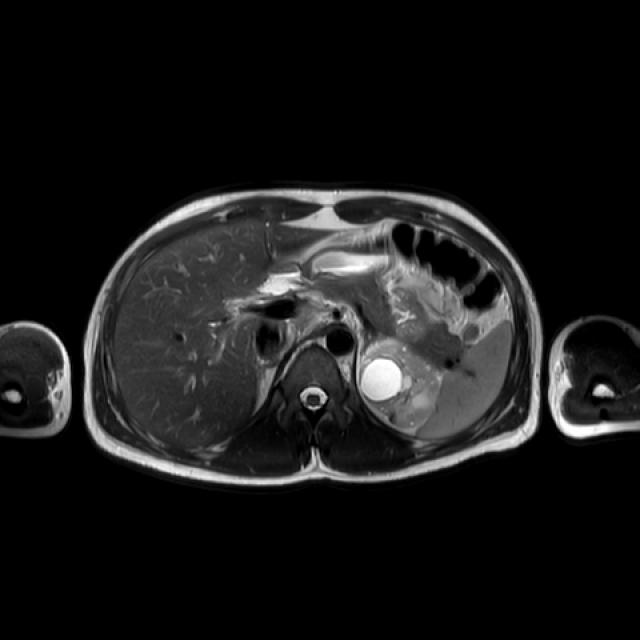Sol: (356, 339, 441, 426)
